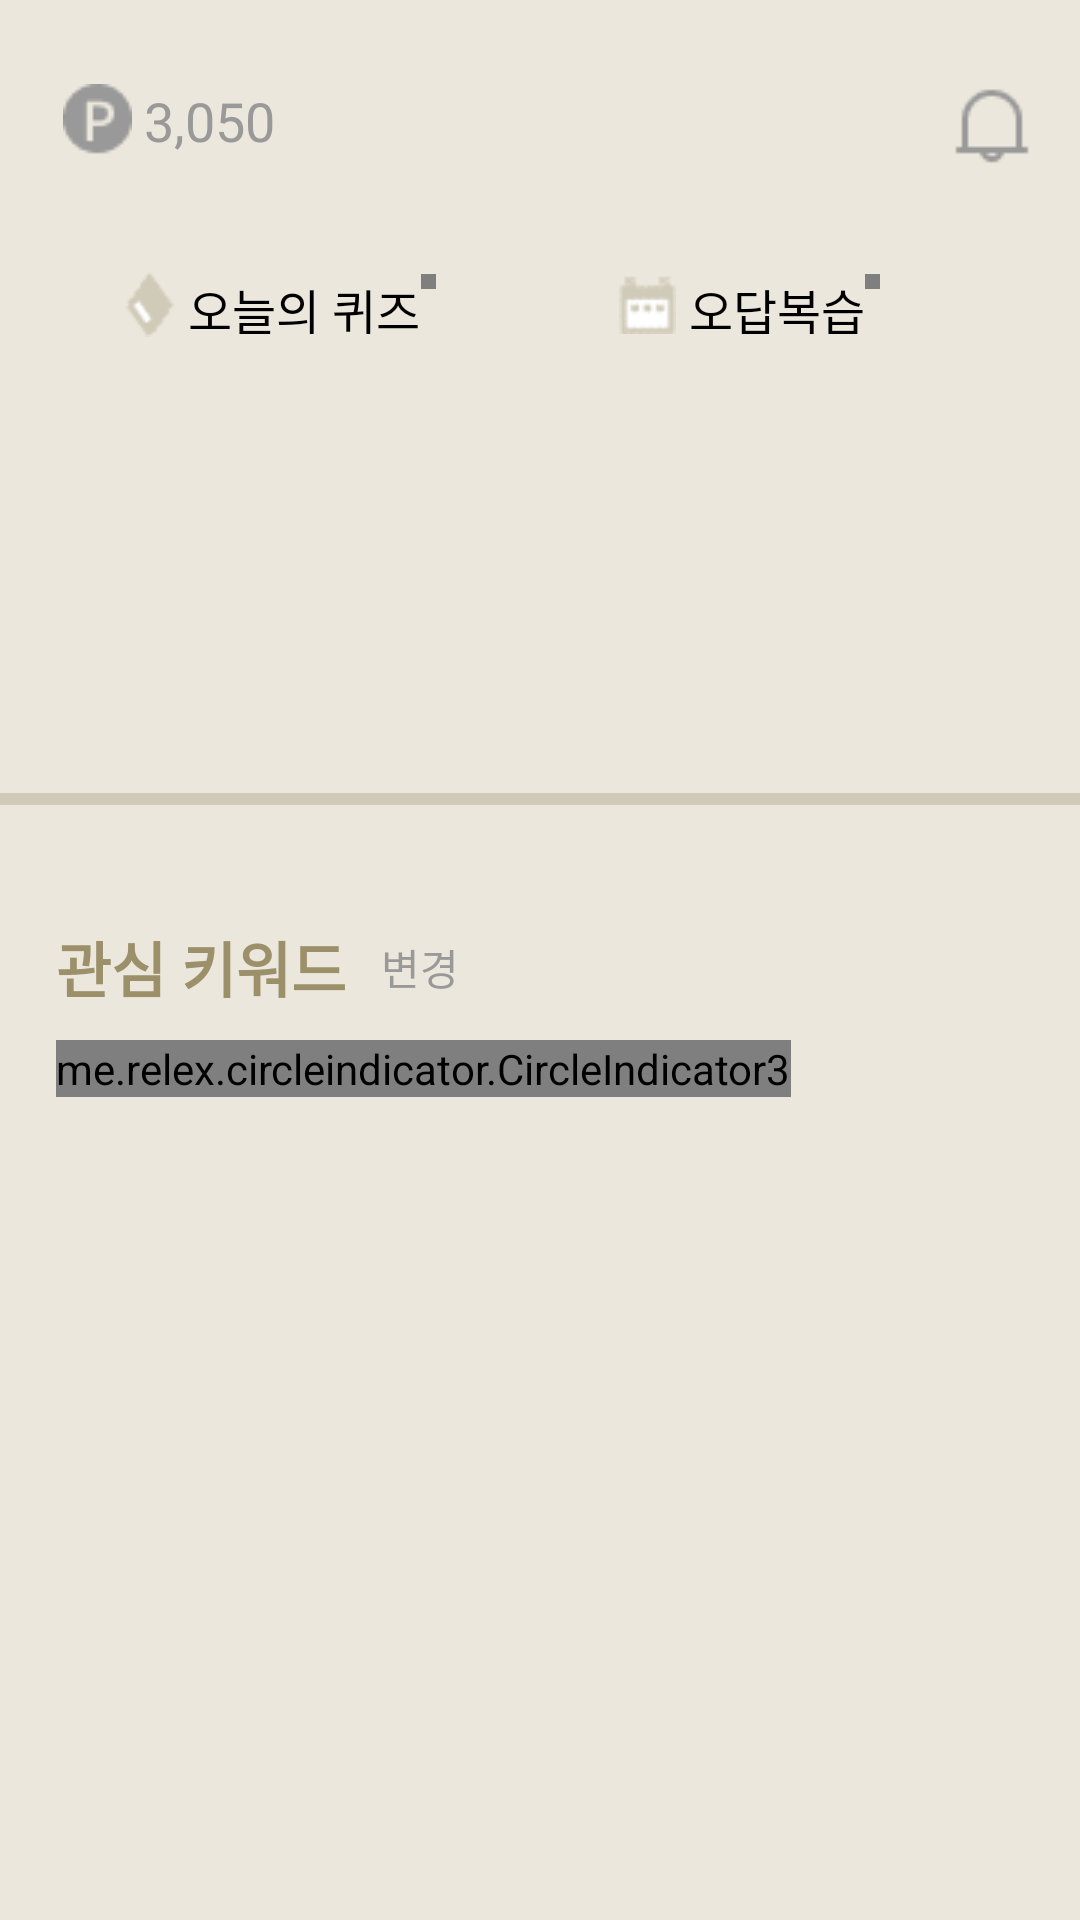

Icon bounding boxes for this 1080*1920 phone screenshot, format (x1, y1, x2, y2):
notification: (956, 89, 1028, 163)
point: (63, 84, 132, 154)
